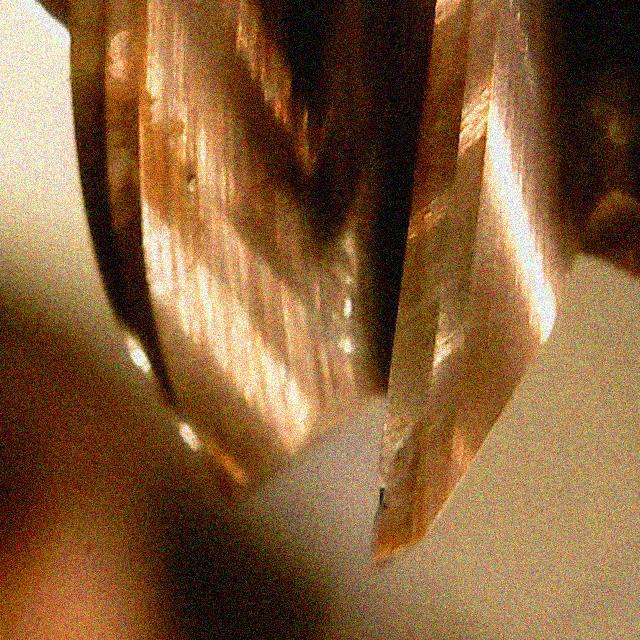Tool-wear-class-1: (349, 297, 461, 580)
